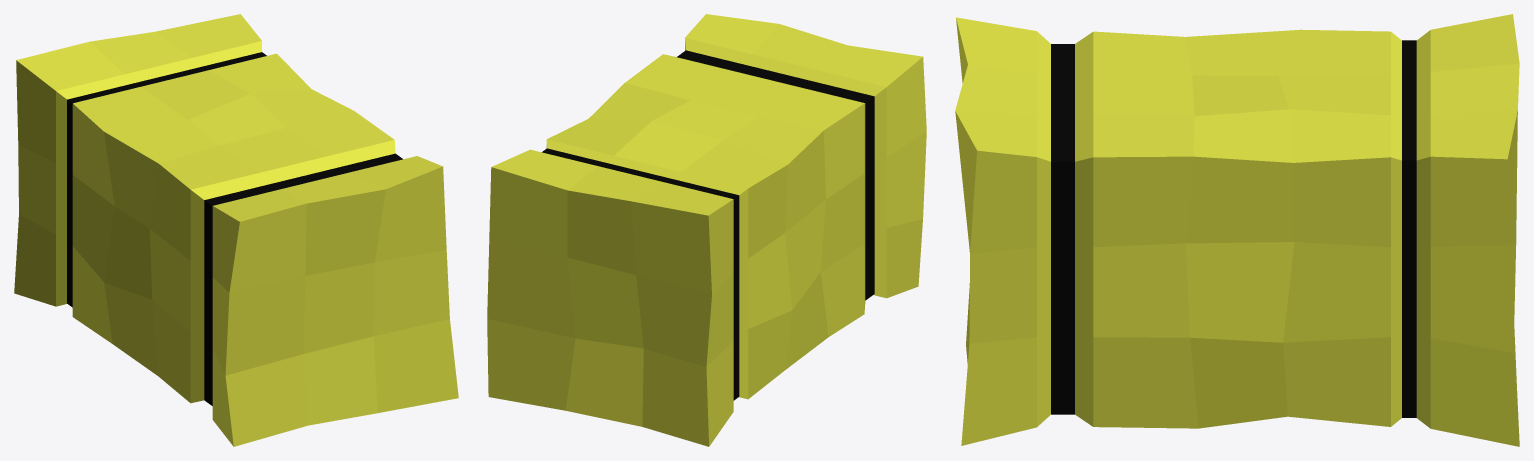
File: hay.fbx
3 renders of one model, left to right at view 1: azimuth 30°, elevation 25°; view 2: azimuth 150°, elevation 25°; view 3: azimuth 270°, elevation 25°, orthographic. The views are drawn at different scales.
Visible parts, largest first — view 1: hay; view 2: hay; view 3: hay.
Boxes of the visible parts, x1,y1,x2,y2 form: hay: [14, 14, 458, 446]; hay: [487, 14, 926, 446]; hay: [955, 14, 1519, 446].
Bounding box in the file's own units: 0.6899 × 0.6806 × 1.17.
